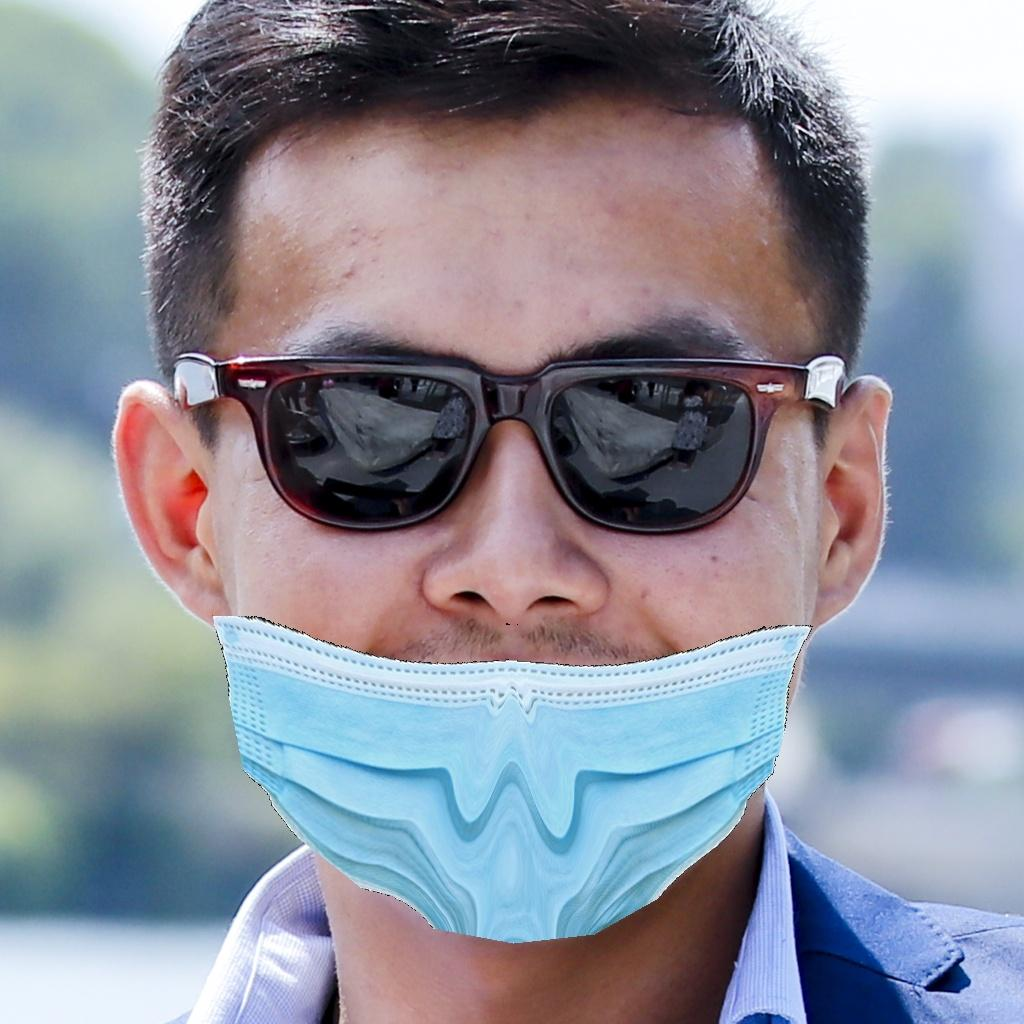Máscara Incorreta: (186, 178, 854, 933)
